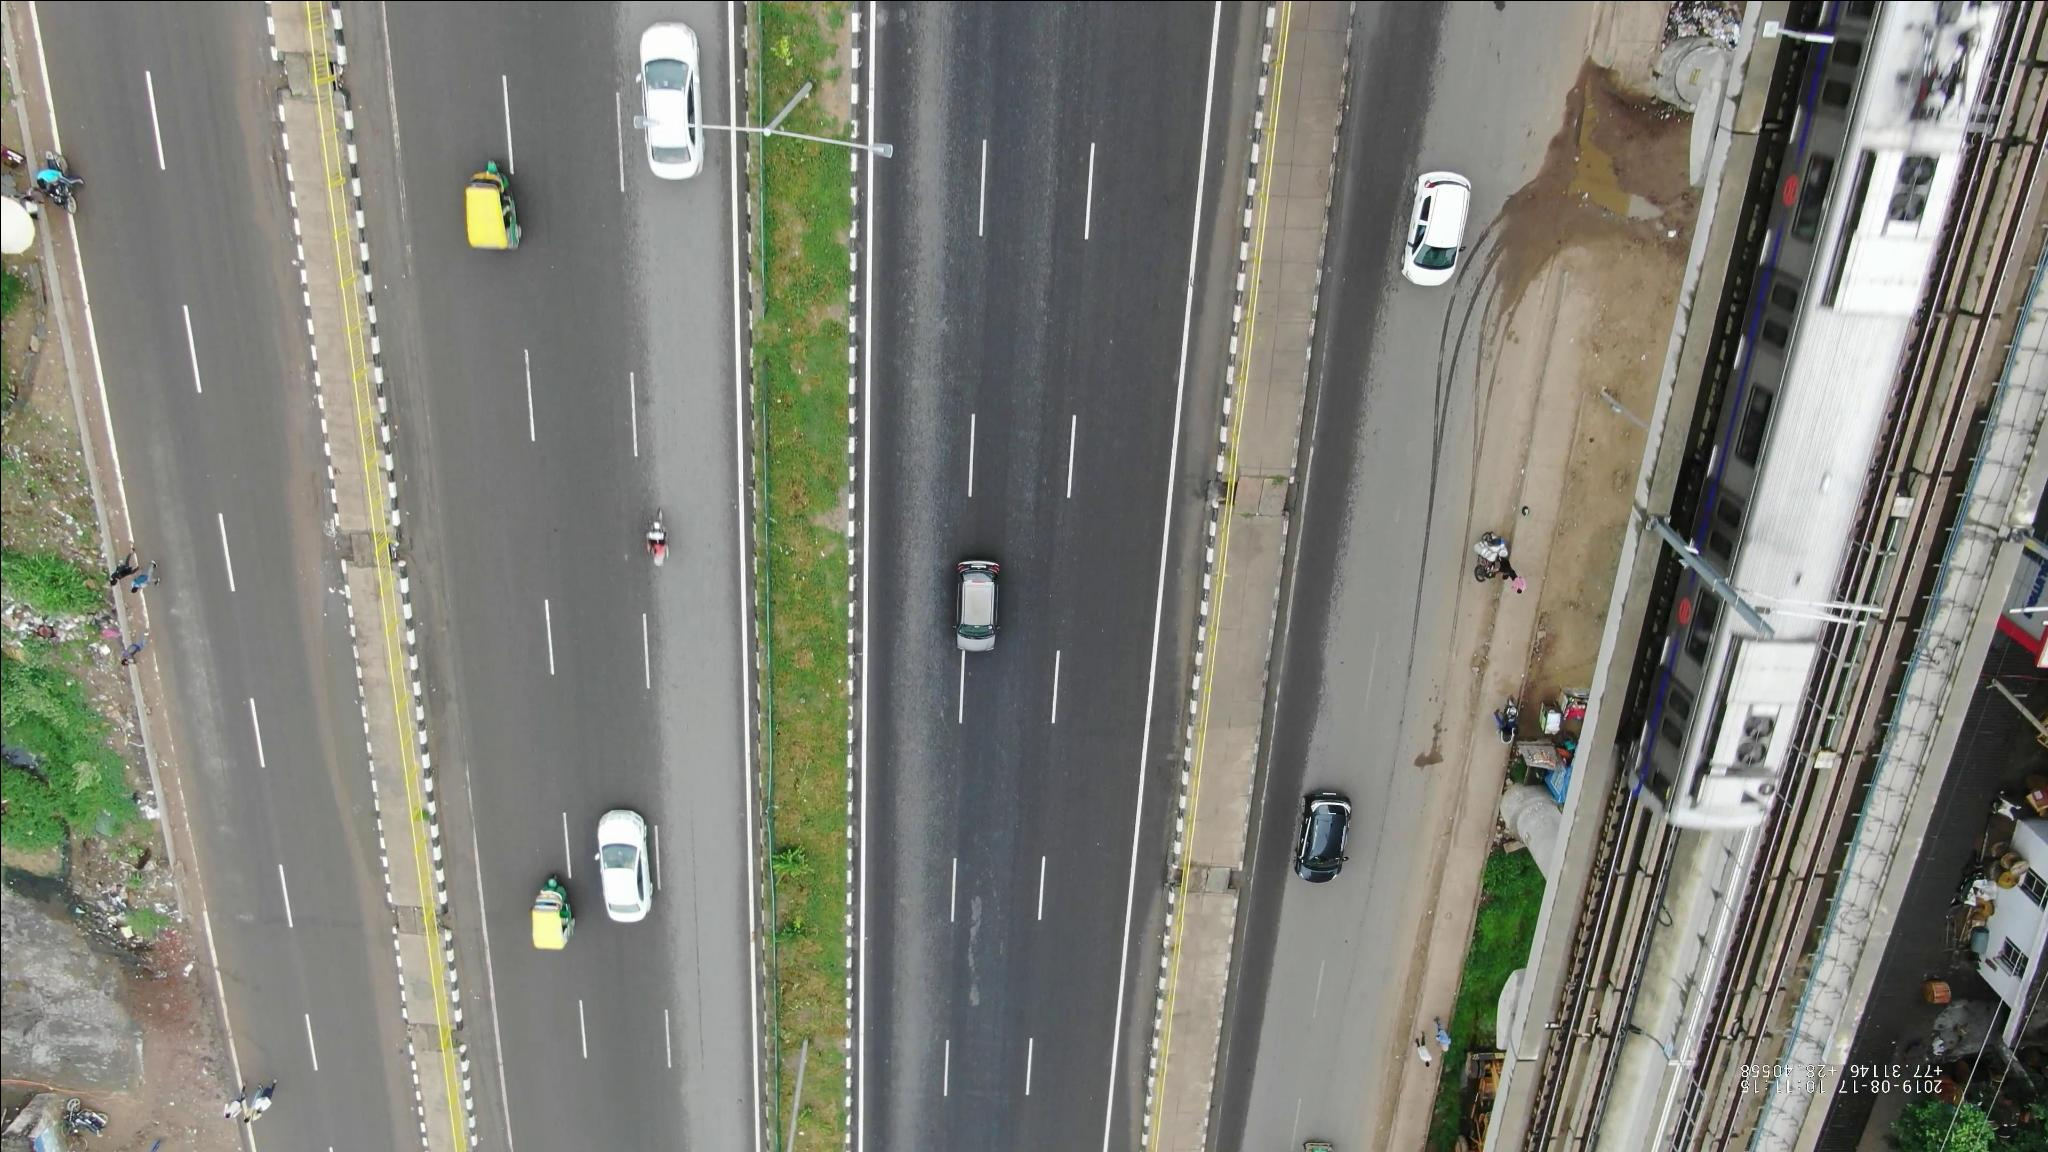Waterlogging: (316, 581, 391, 876)
